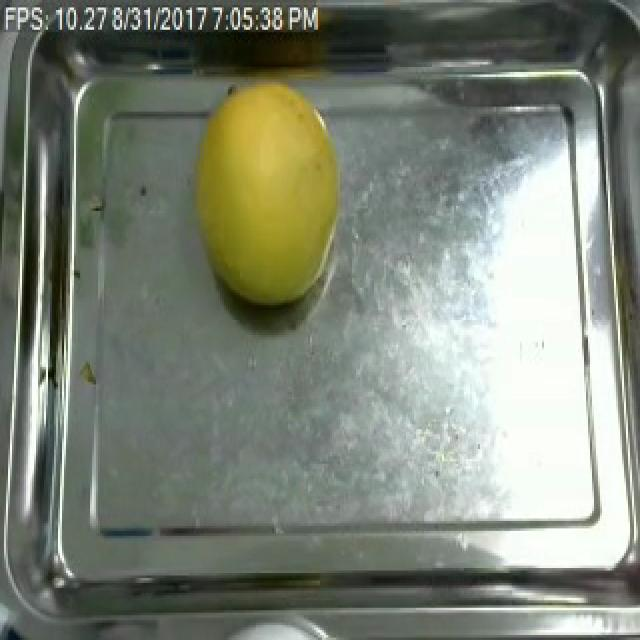fruit: (178, 72, 354, 320)
